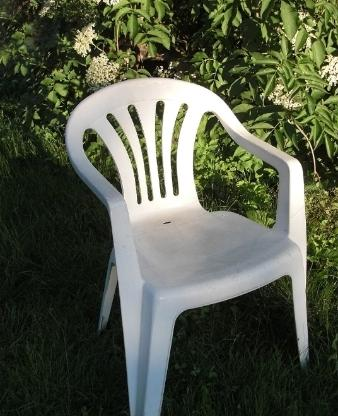chair: (59, 70, 318, 407)
